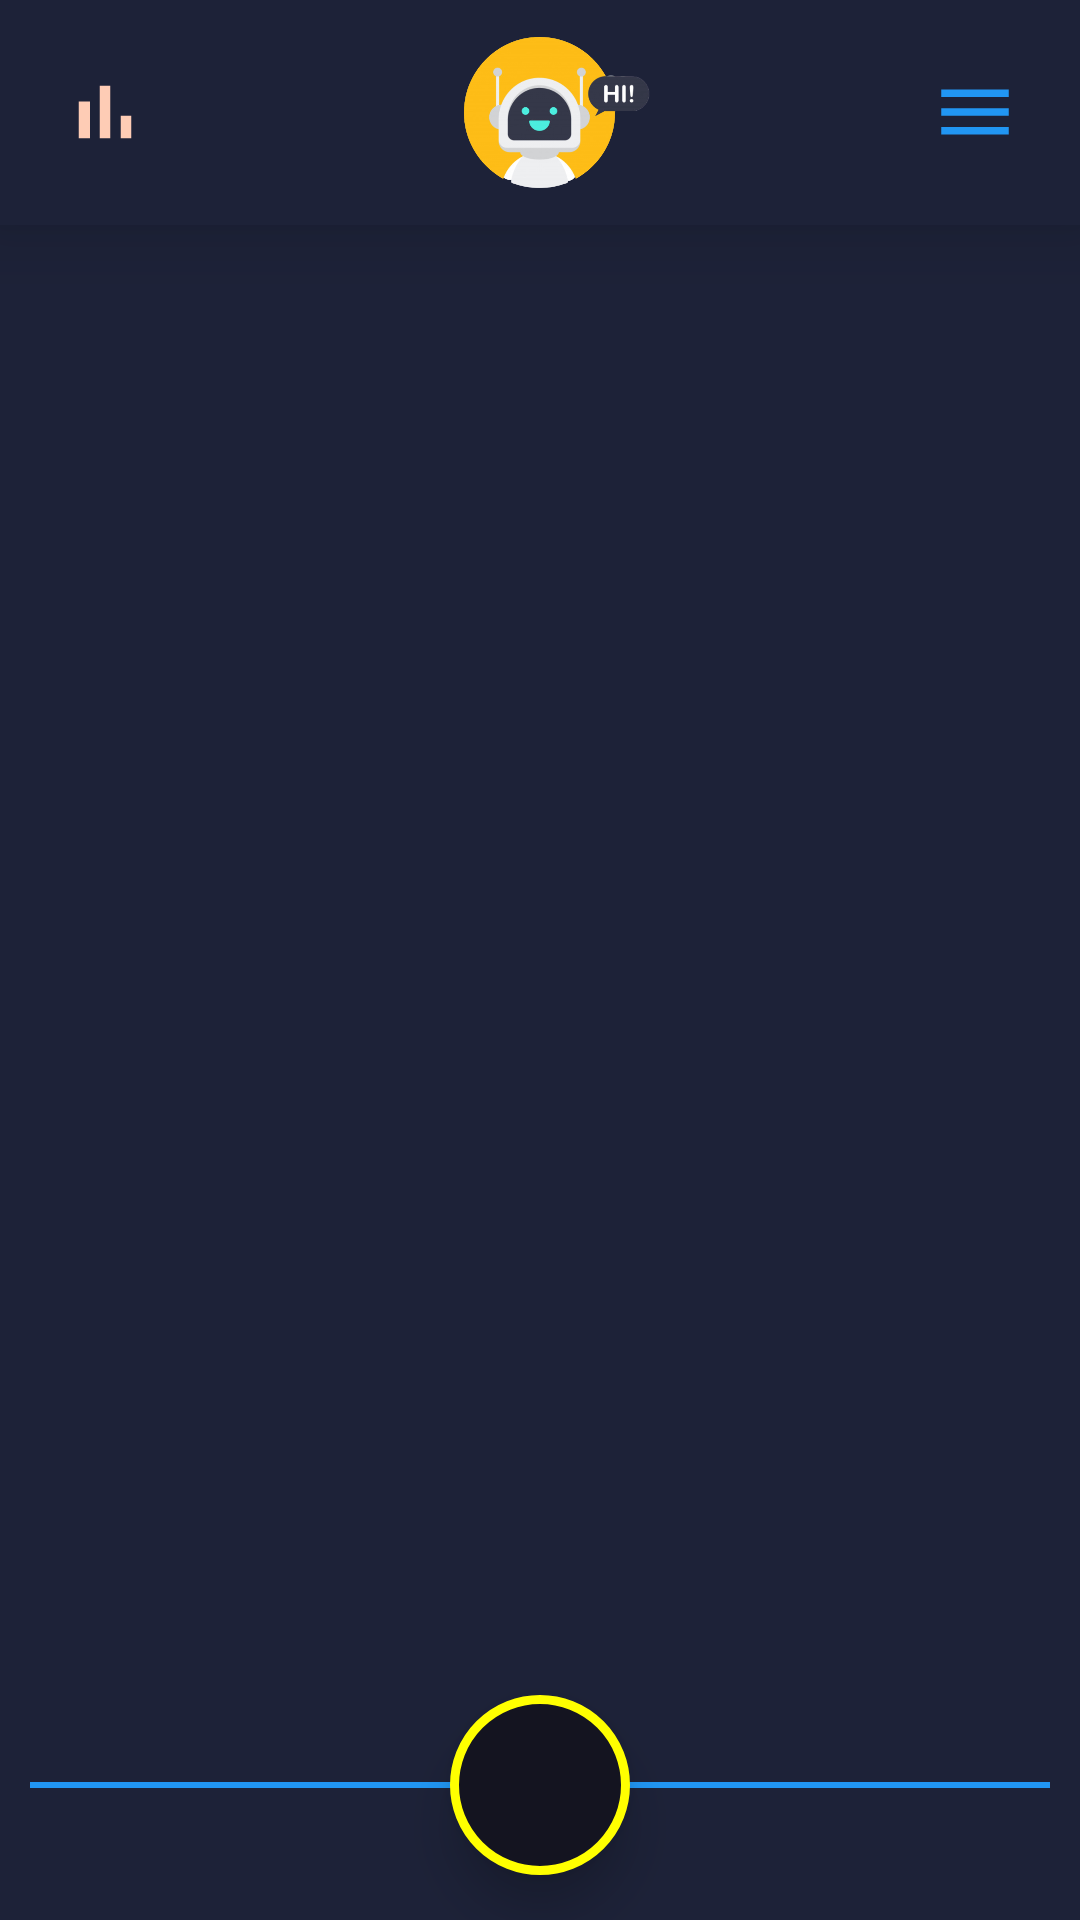

Screen size 1080px×1920px. Icon name, then its box in pixels as (x1=x1, y1=y1, x2=x2, y2=y2):
statistics: (x1=78, y1=85, x2=132, y2=139)
